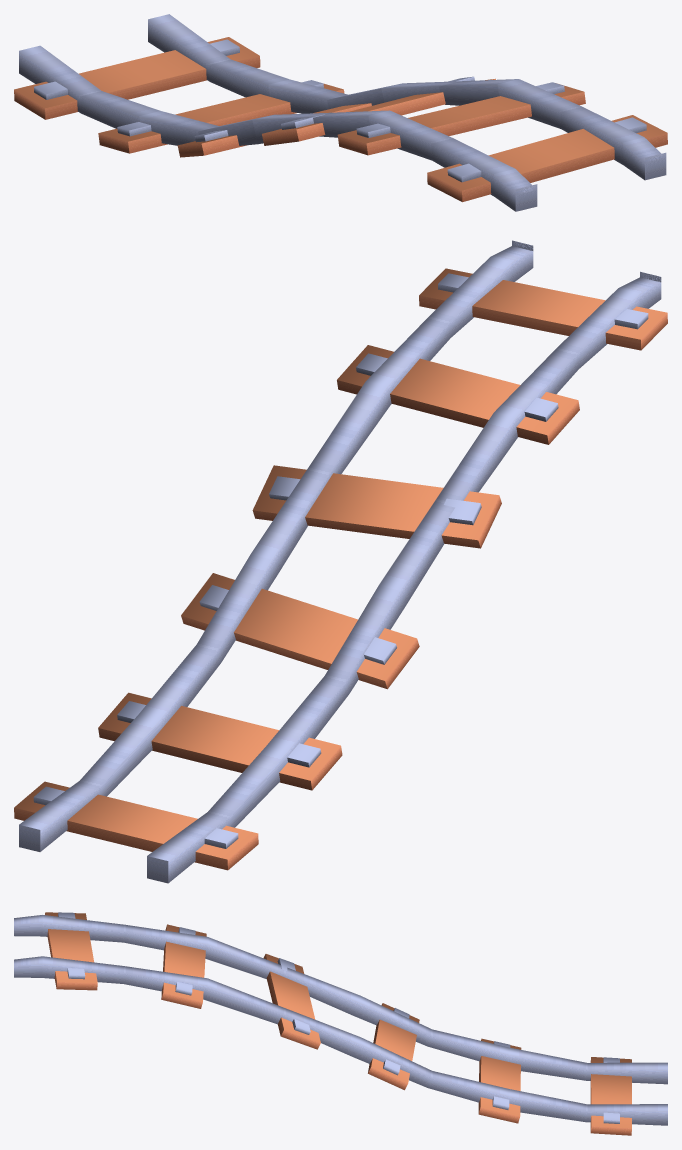
Rendered from railroad-damaged-straight-hill-complete.glb.
The picture shows the model from 3 angles, top to bottom: view 1: azimuth 30°, elevation 25°; view 2: azimuth 150°, elevation 25°; view 3: azimuth 270°, elevation 25°; orthographic projection. The views are drawn at different scales.
Visible parts, largest first — view 1: railroad-damaged-straight-hill-complete; view 2: railroad-damaged-straight-hill-complete; view 3: railroad-damaged-straight-hill-complete.
Part boxes in pixels (x1,y1,x2,y2): railroad-damaged-straight-hill-complete: (14,14,667,211); railroad-damaged-straight-hill-complete: (14,240,667,883); railroad-damaged-straight-hill-complete: (14,912,667,1135).
Bounding box in the file's own units: 1.02 × 1.1 × 4.
1 material, 1 textured.
